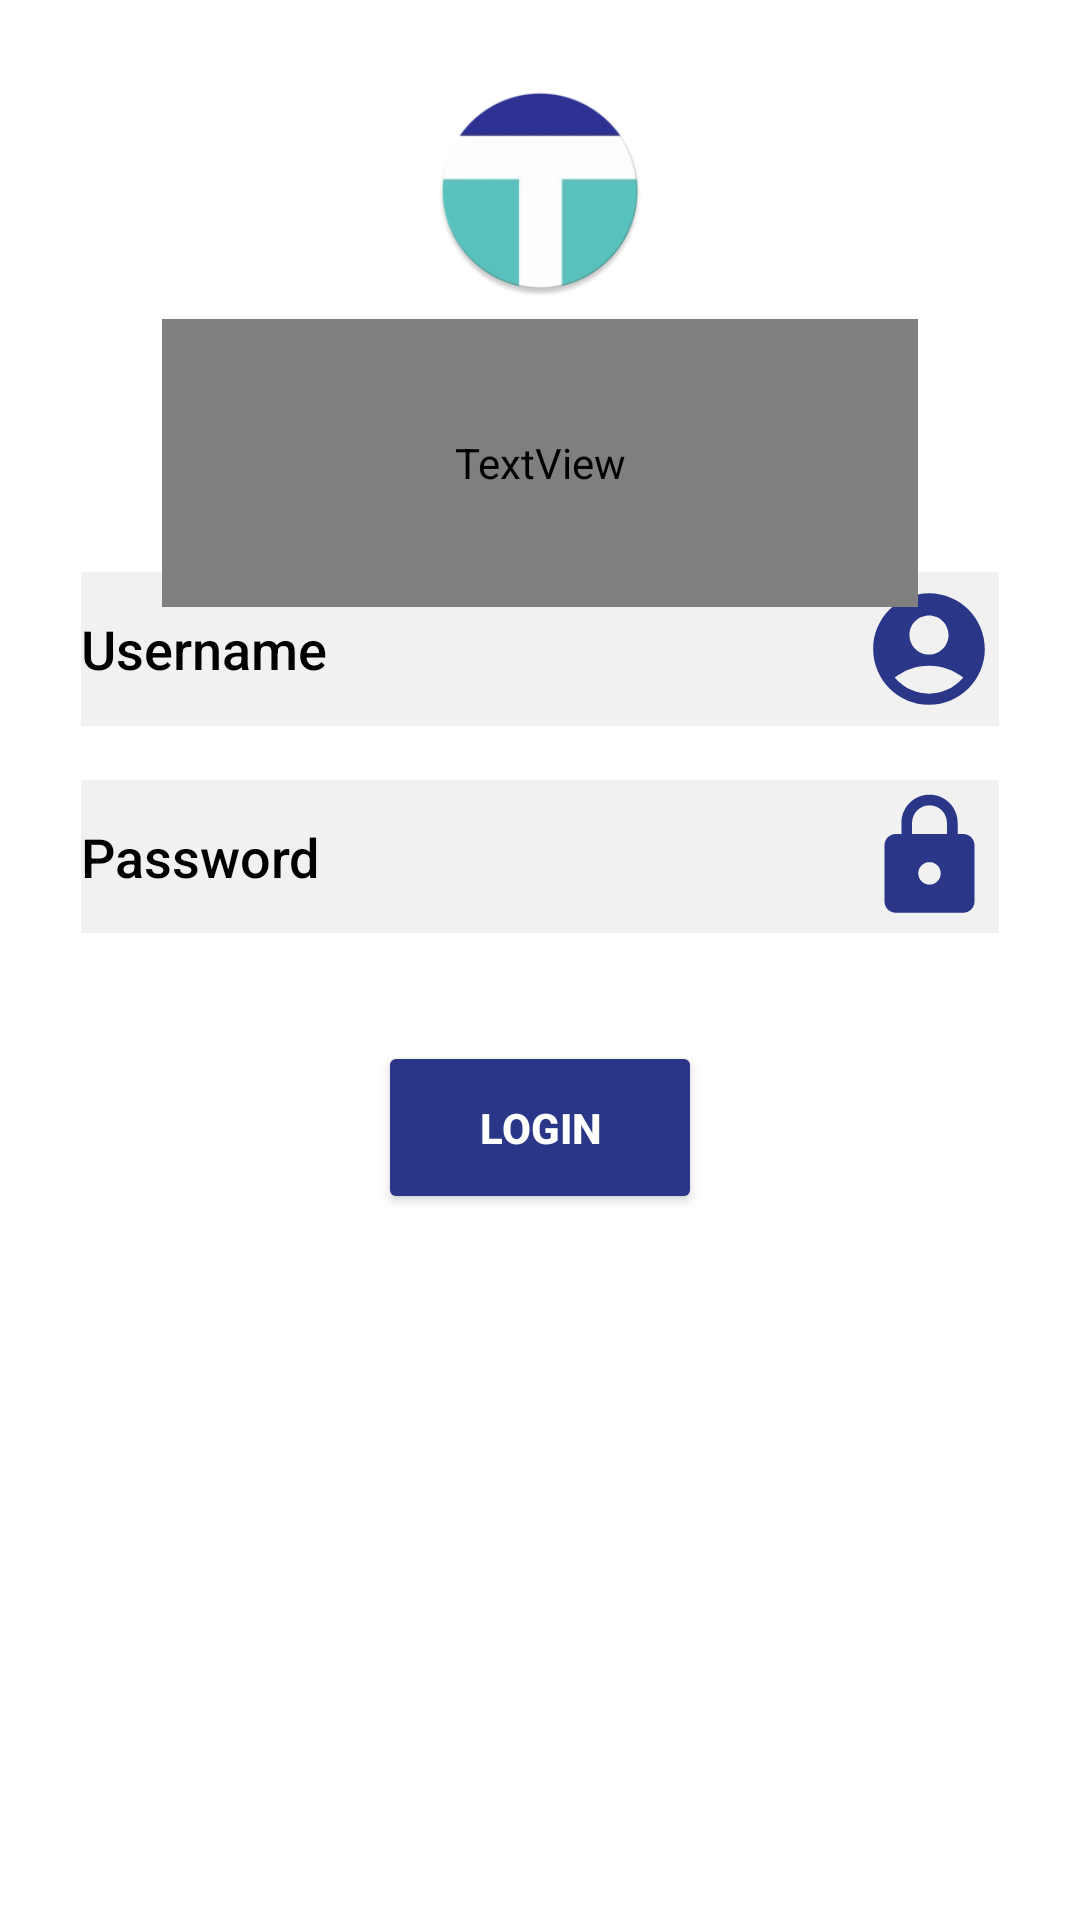

Icon click points for this 1080px x 1920px phone screenshot, format [x,y]:
account: [922,643]
lock: [929,853]
